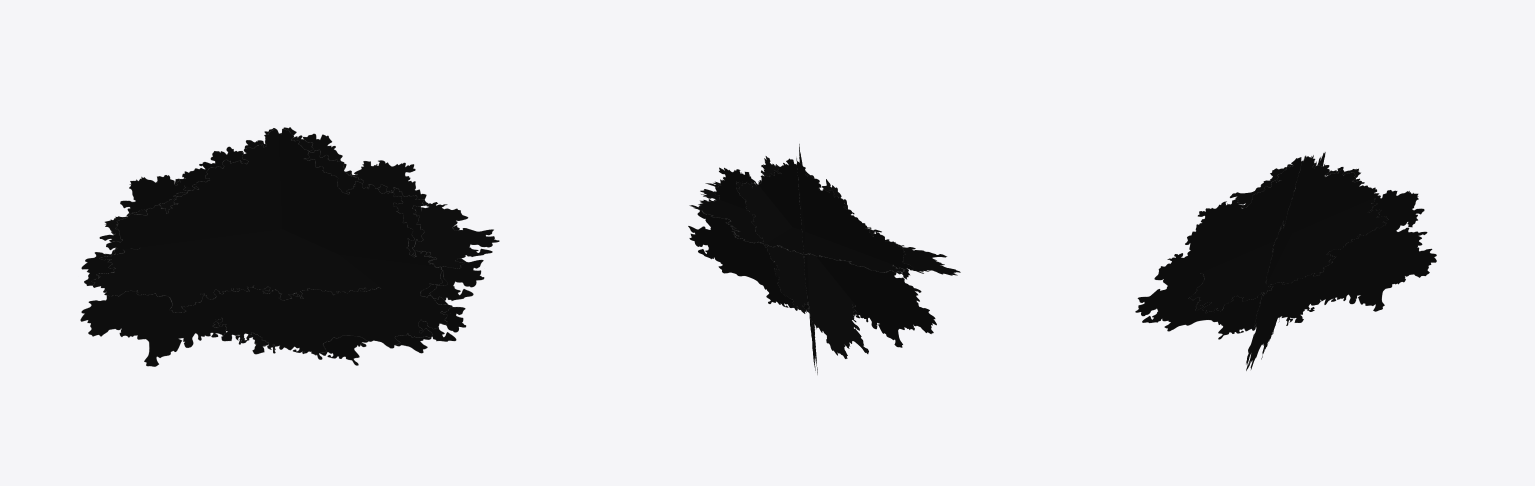
The model's file is TreeRoof.glb.
The picture shows the model from 3 angles, left to right: view 1: azimuth 30°, elevation 25°; view 2: azimuth 150°, elevation 25°; view 3: azimuth 270°, elevation 25°; orthographic projection. The views are drawn at different scales.
Parts seen in each view (by area): view 1: TreeRoof.001; view 2: TreeRoof.001; view 3: TreeRoof.001.
Part boxes in pixels (x1=…): TreeRoof.001: x1=80, y1=127, x2=499, y2=366; TreeRoof.001: x1=688, y1=143, x2=960, y2=375; TreeRoof.001: x1=1135, y1=152, x2=1436, y2=370.
Size of the model in its own units: 2.37 by 2.19 by 2.57.
1 material, 1 textured.
